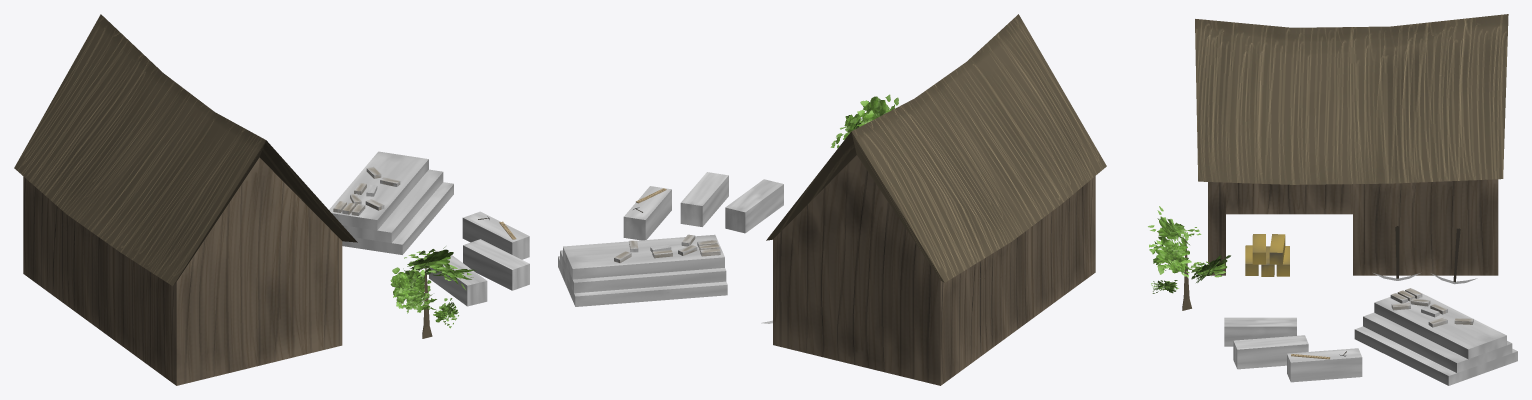
File: entrepot.obj
The picture shows the model from 3 angles, left to right: view 1: azimuth 30°, elevation 25°; view 2: azimuth 150°, elevation 25°; view 3: azimuth 270°, elevation 25°; orthographic projection. The views are drawn at different scales.
Visible parts, largest first — view 1: Plane; view 2: Plane; view 3: Plane.
Part boxes in pixels (<box>): Plane: <box>14,14,529,385</box>; Plane: <box>558,14,1106,385</box>; Plane: <box>1148,14,1517,385</box>.
Bounding box in the file's own units: 1.26 × 0.6784 × 1.05.
